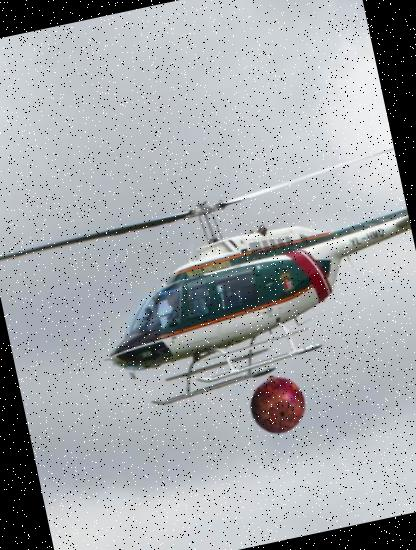Mangostan: (243, 371, 312, 440)
